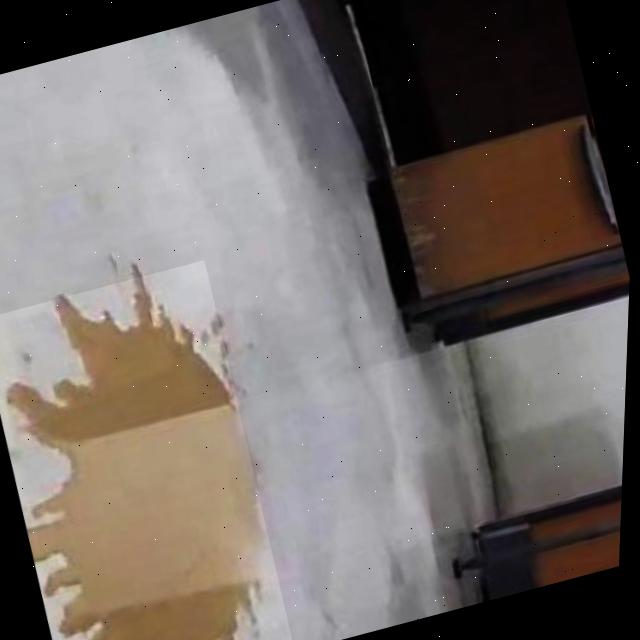spillage: (8, 292, 262, 640)
